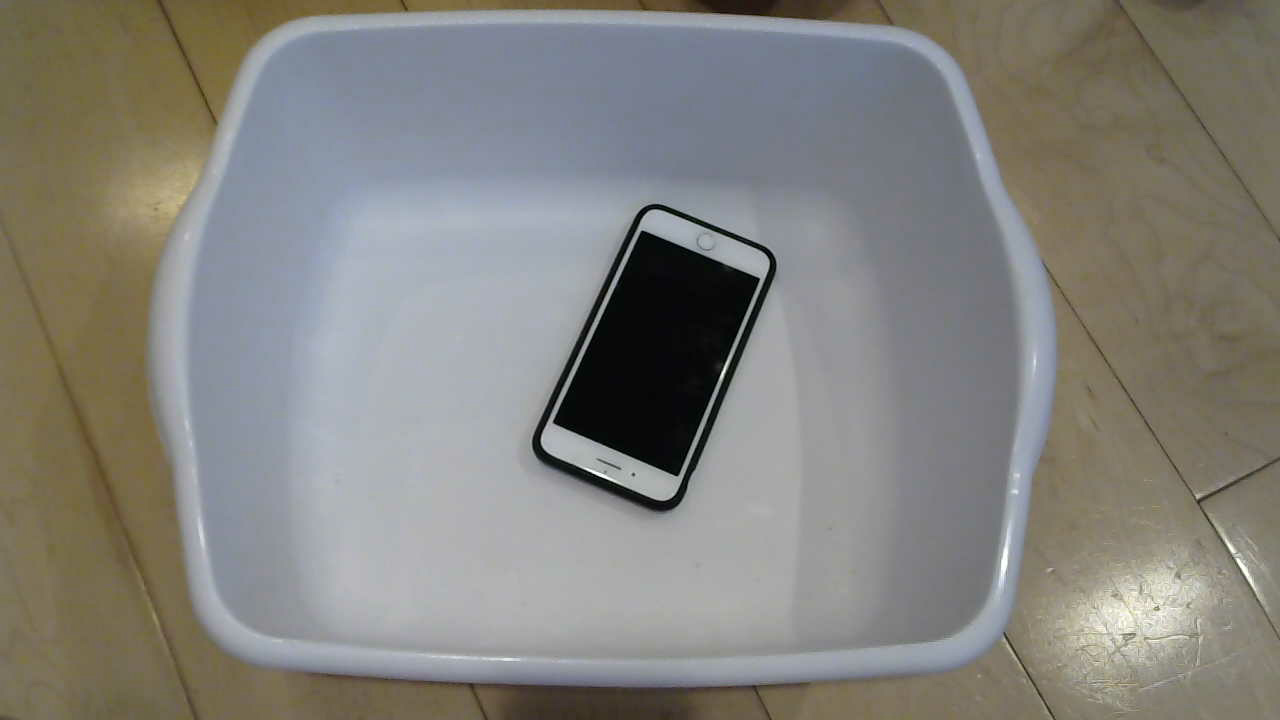phone: (522, 195, 801, 529)
